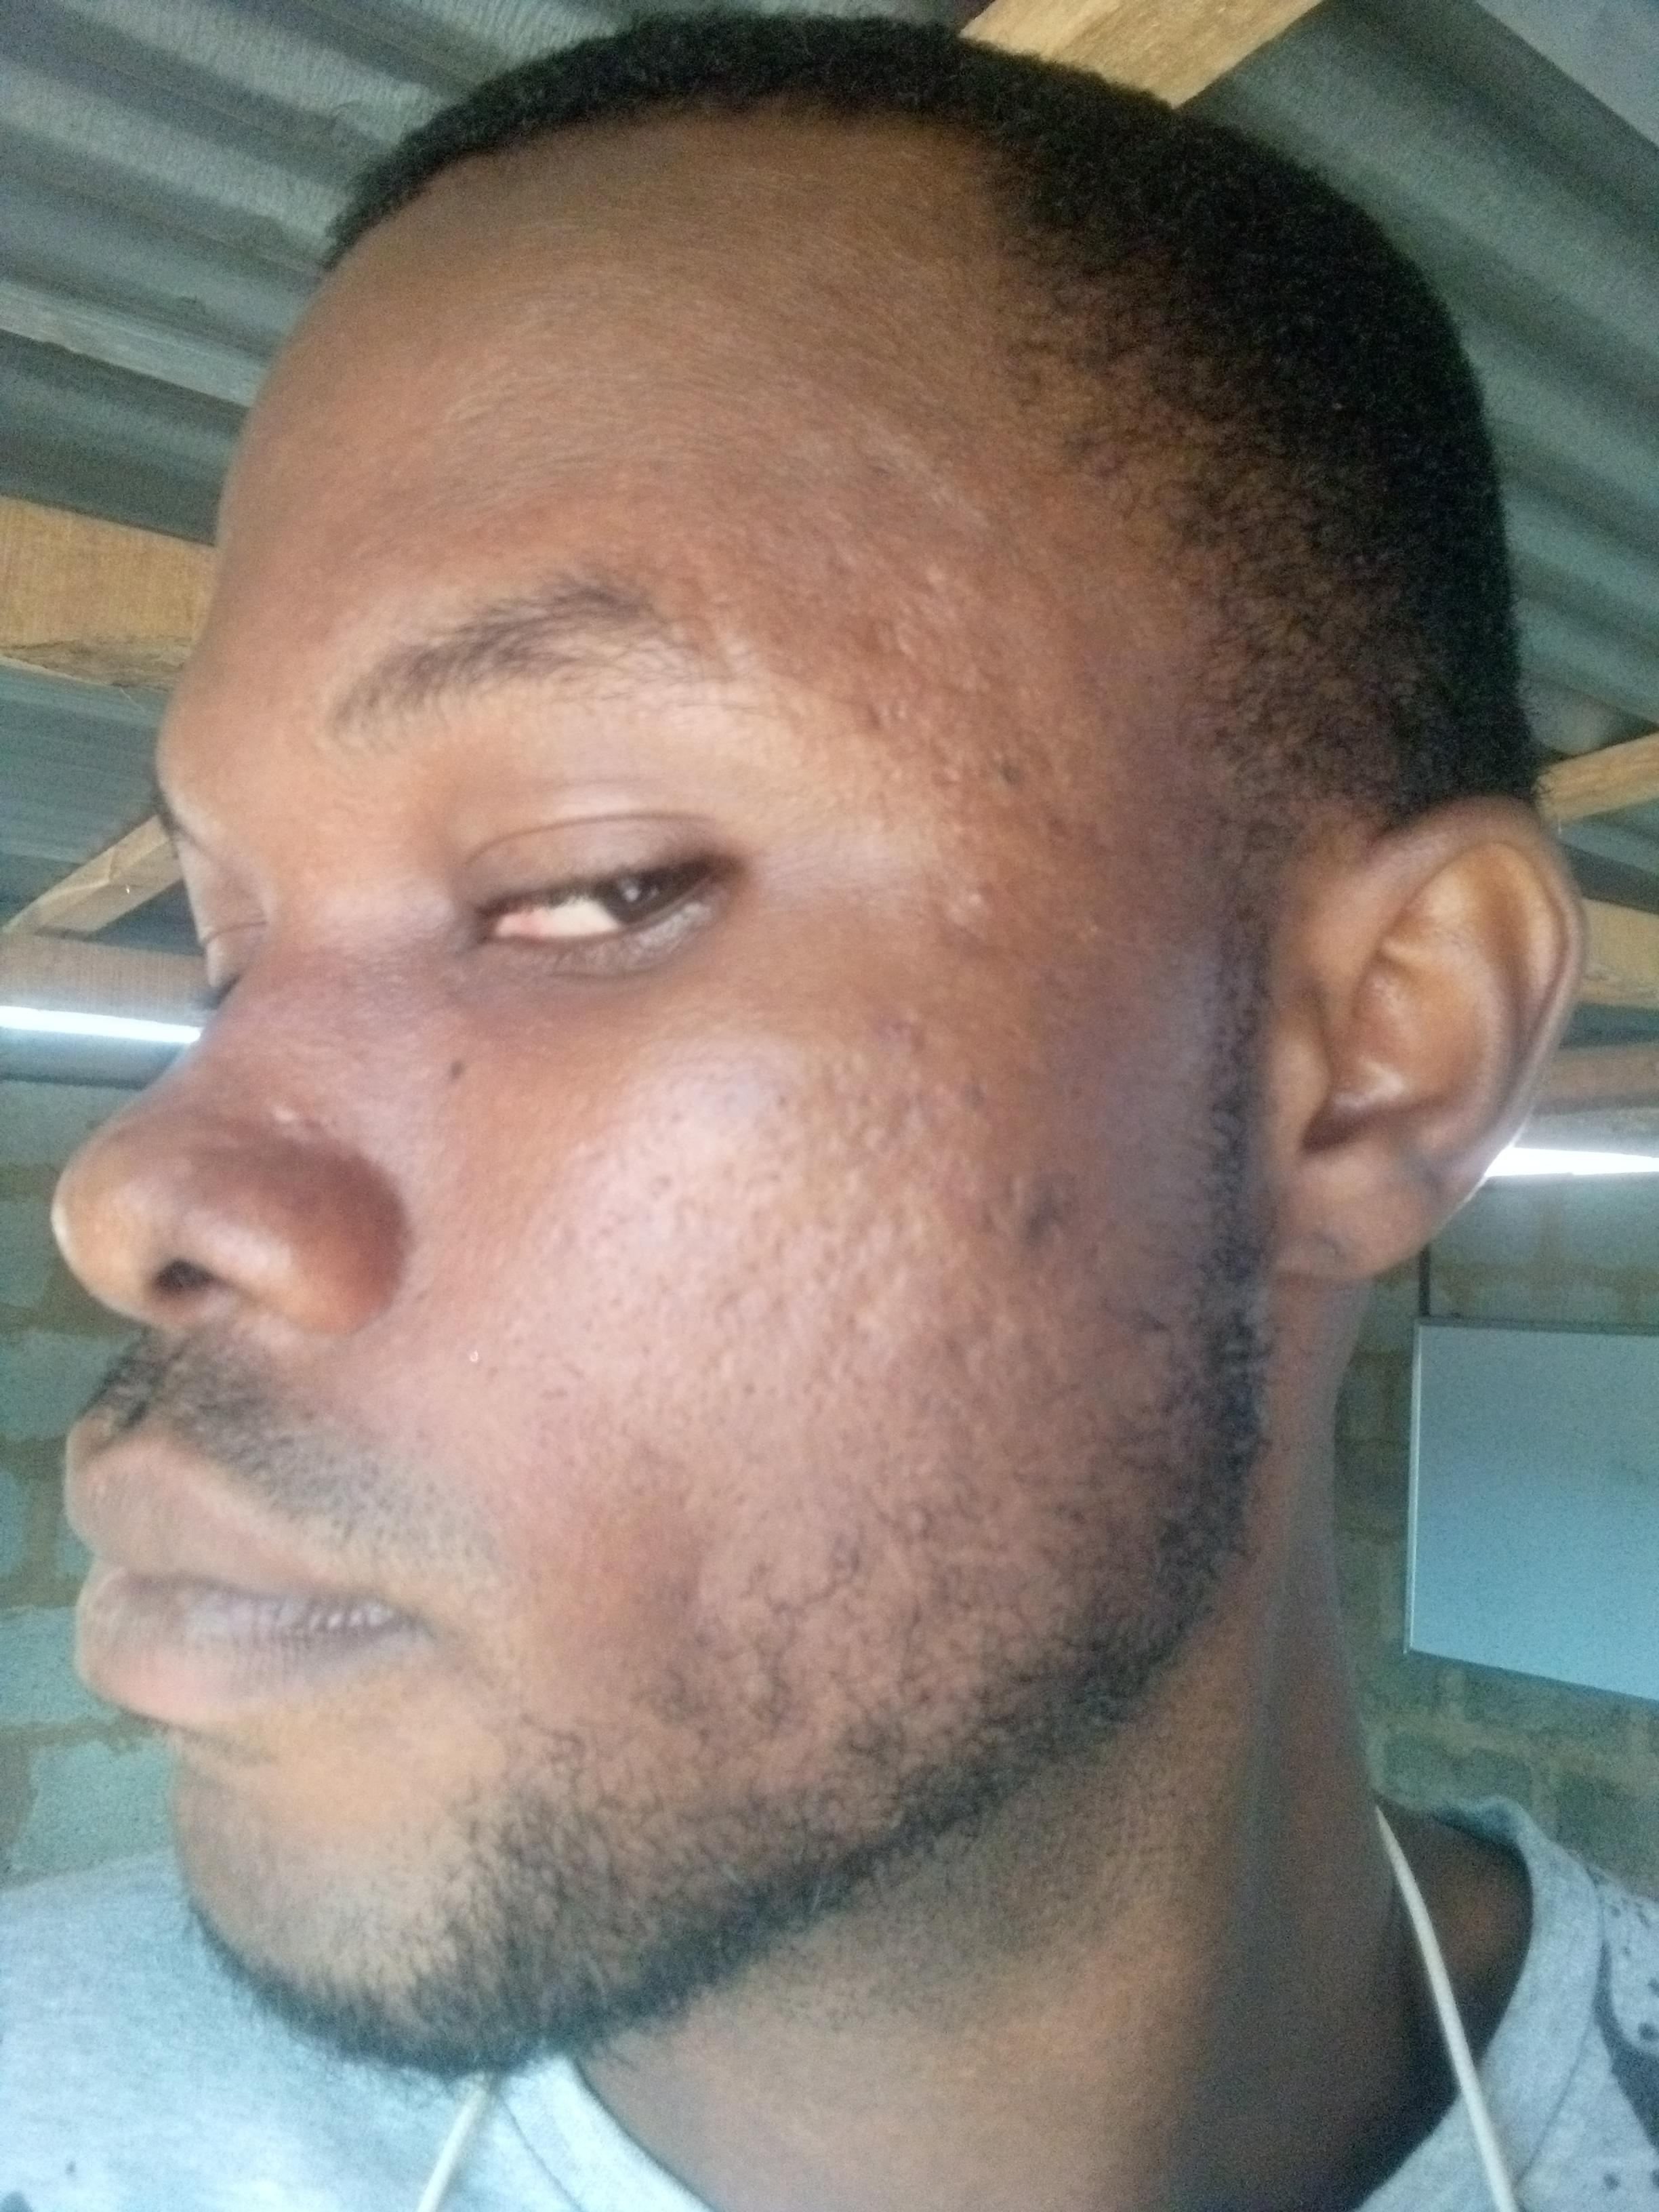Acne: (997, 1160, 1087, 1259), (978, 735, 1040, 806)
Englarged-Pores: (636, 1040, 1026, 1416), (873, 559, 1014, 840), (856, 857, 1039, 1033)
